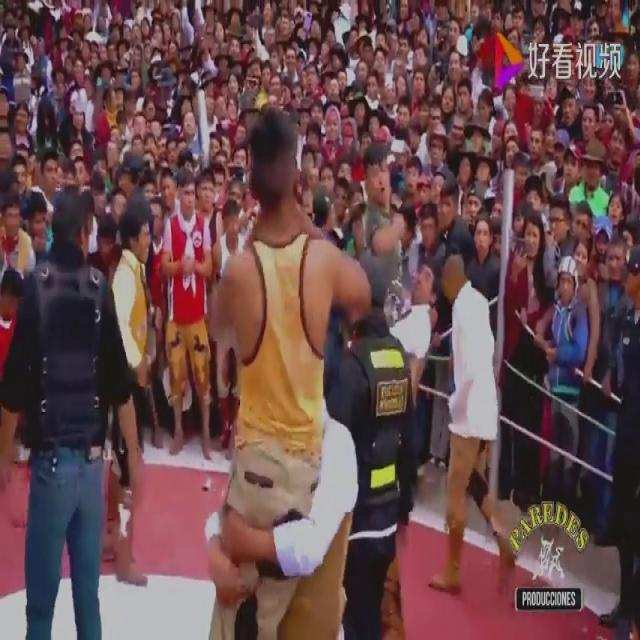non-fight: (204, 89, 386, 639), (0, 185, 147, 638), (439, 200, 503, 607), (108, 186, 150, 587), (159, 166, 216, 461), (550, 2, 585, 106)
